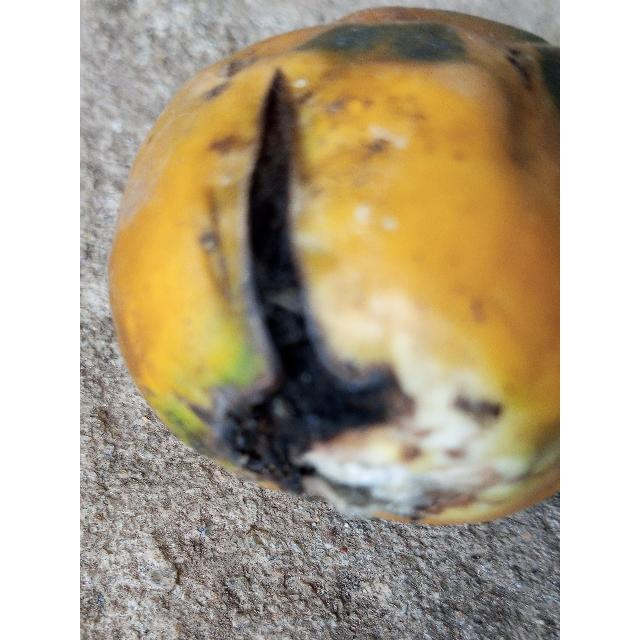damaged: (109, 8, 560, 524)
